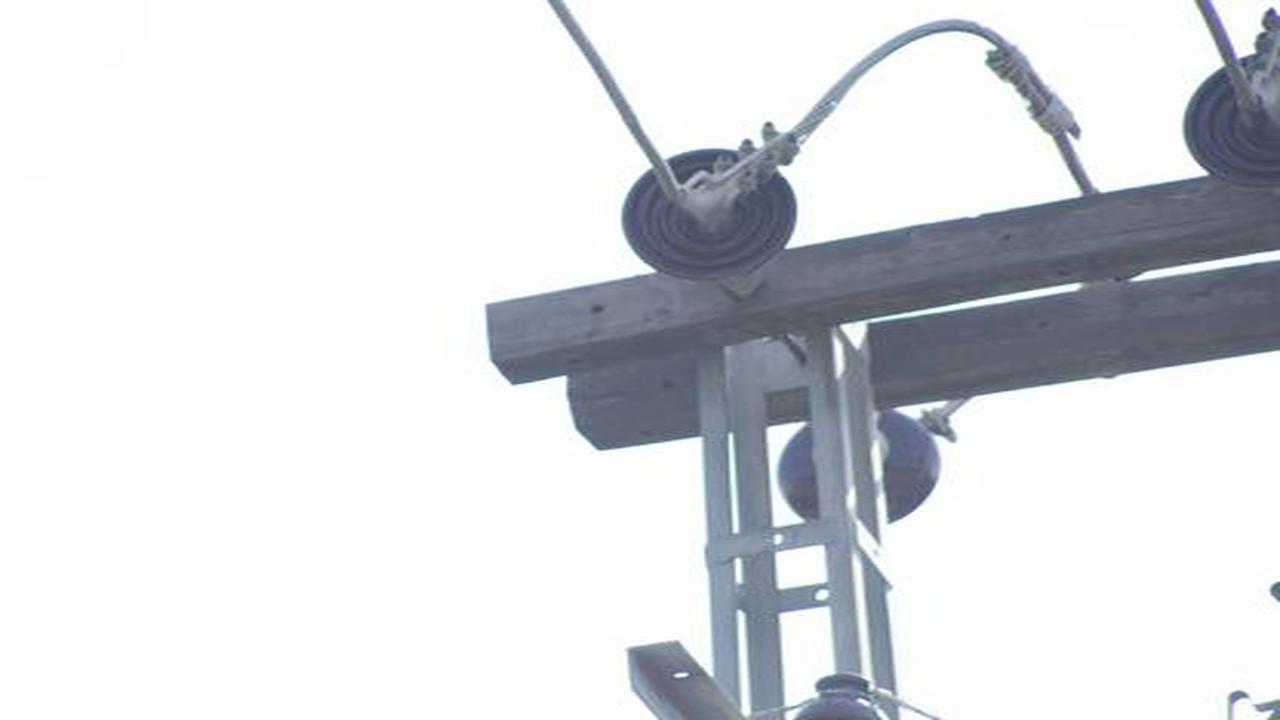insulator_disc: (614, 143, 803, 275), (782, 420, 954, 532), (1180, 55, 1270, 190)
